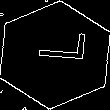L_W: (26, 37, 84, 73)
